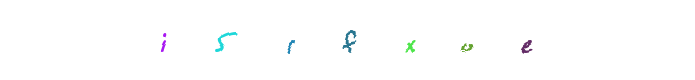5: (184, 0, 264, 80)
E: (486, 0, 566, 80)
F: (307, 0, 387, 80)
I: (123, 0, 203, 80)
R: (295, 0, 375, 80)
U: (396, 0, 476, 80)
X: (339, 0, 419, 80)
